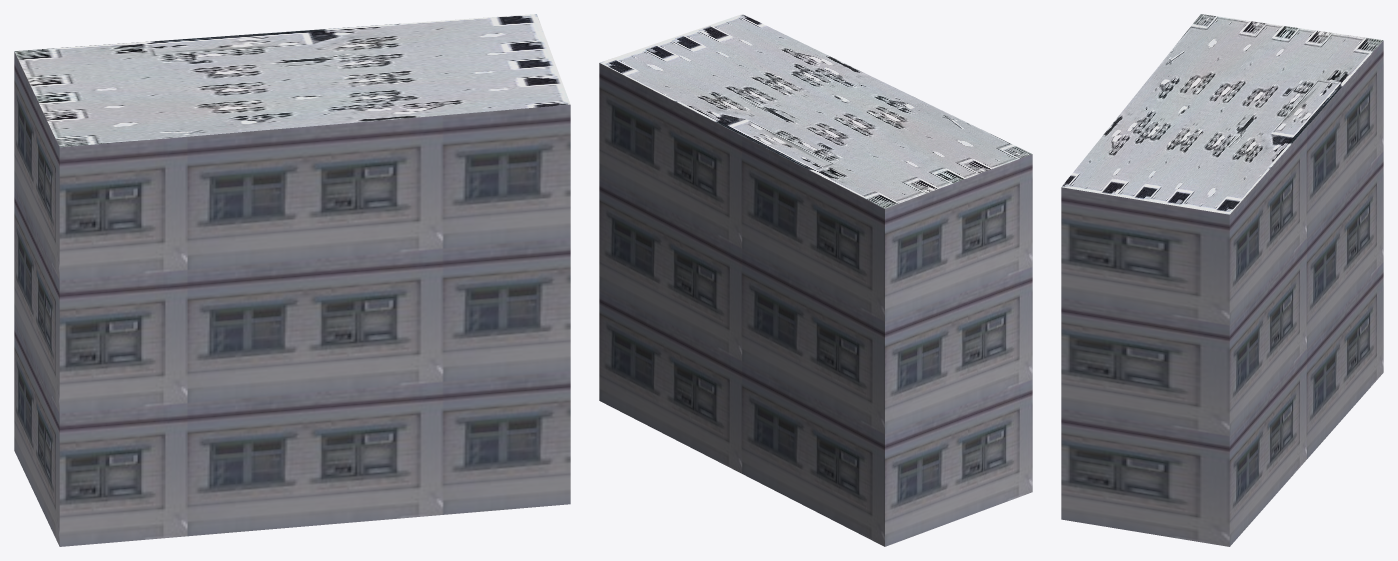
The model's file is ResTex__3018.fbx.
3 views of the same model, side by side, from view 1: azimuth 30°, elevation 25°; view 2: azimuth 150°, elevation 25°; view 3: azimuth 270°, elevation 25° (orthographic). The views are drawn at different scales.
Parts seen in each view (by area): view 1: CityEngineMaterial_1_m, CityEngineMaterial_8_m; view 2: CityEngineMaterial_1_m, CityEngineMaterial_8_m; view 3: CityEngineMaterial_1_m, CityEngineMaterial_8_m.
Boxes of the visible parts, x1,y1,x2,y2 form: CityEngineMaterial_1_m: (14,52,570,546); CityEngineMaterial_8_m: (14,14,570,147); CityEngineMaterial_1_m: (599,63,1032,546); CityEngineMaterial_8_m: (599,14,1032,208); CityEngineMaterial_1_m: (1061,41,1383,546); CityEngineMaterial_8_m: (1061,14,1383,214).
Size of the model in its own units: 11.66 by 9 by 7.92.
2 materials, 2 textured.
